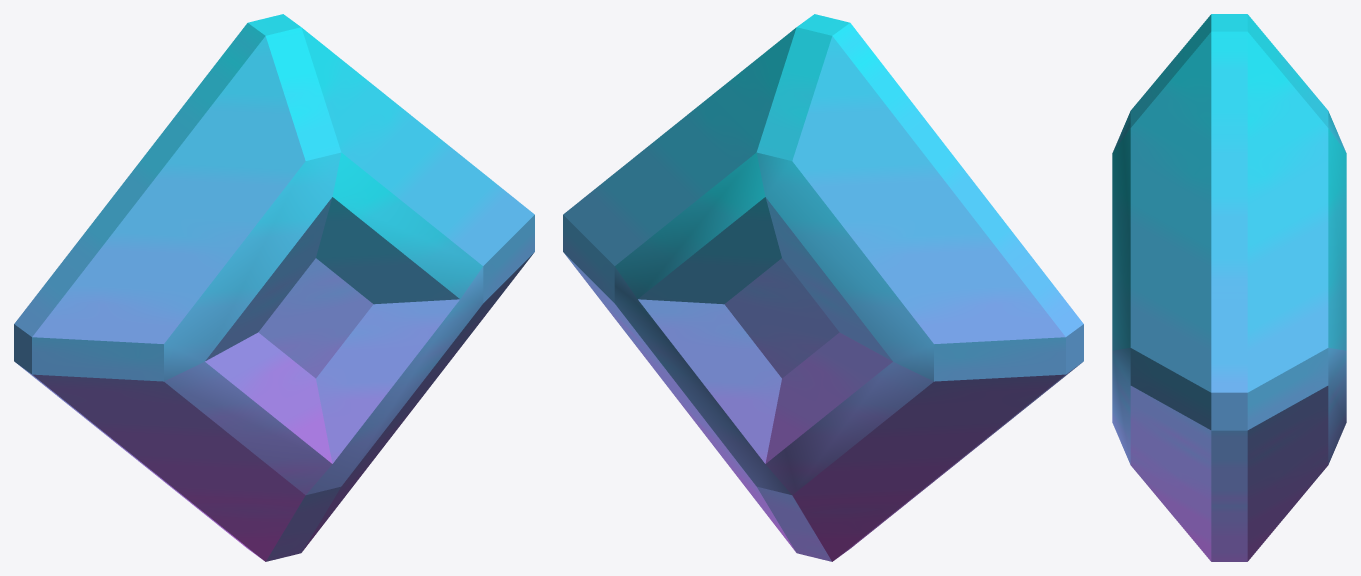
The model's file is gem-large.glb.
3 renders of one model, left to right at view 1: azimuth 30°, elevation 25°; view 2: azimuth 150°, elevation 25°; view 3: azimuth 270°, elevation 25°, orthographic.
Parts seen in each view (by area): view 1: Gem_Large; view 2: Gem_Large; view 3: Gem_Large.
Part boxes in pixels (x1,y1,x2,y2): Gem_Large: (14, 14, 534, 561); Gem_Large: (563, 14, 1083, 561); Gem_Large: (1112, 14, 1346, 561).
Bounding box in the file's own units: 0.75 × 0.75 × 0.3.
1 material, 1 textured.
